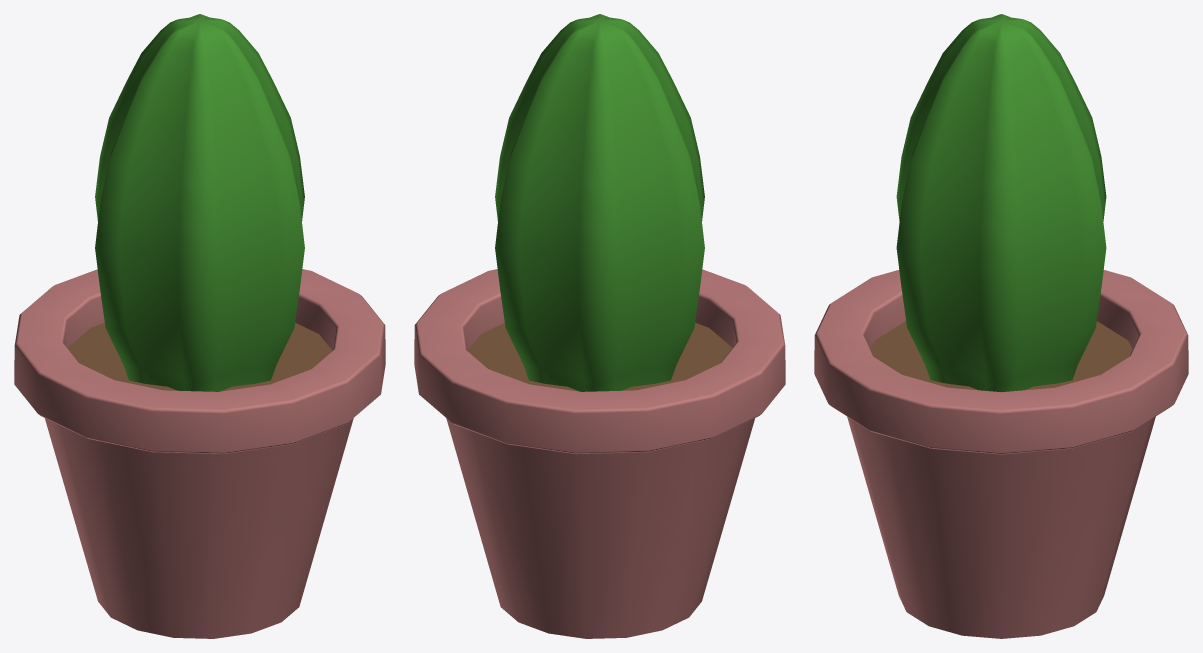
The model's file is Cactus_7.glb.
The picture shows the model from 3 angles, left to right: view 1: azimuth 30°, elevation 25°; view 2: azimuth 150°, elevation 25°; view 3: azimuth 270°, elevation 25°; orthographic projection.
Parts seen in each view (by area): view 1: Cactus_7; view 2: Cactus_7; view 3: Cactus_7.
Part boxes in pixels (box(x1,y1,x2,y2)): Cactus_7: box(14, 14, 385, 638); Cactus_7: box(414, 14, 785, 638); Cactus_7: box(814, 14, 1188, 638).
Size of the model in its own units: 0.0955 by 0.1625 by 0.0955.
Materials: 1 (1 with a texture image).
